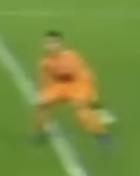goalkeeper: (26, 20, 125, 162)
